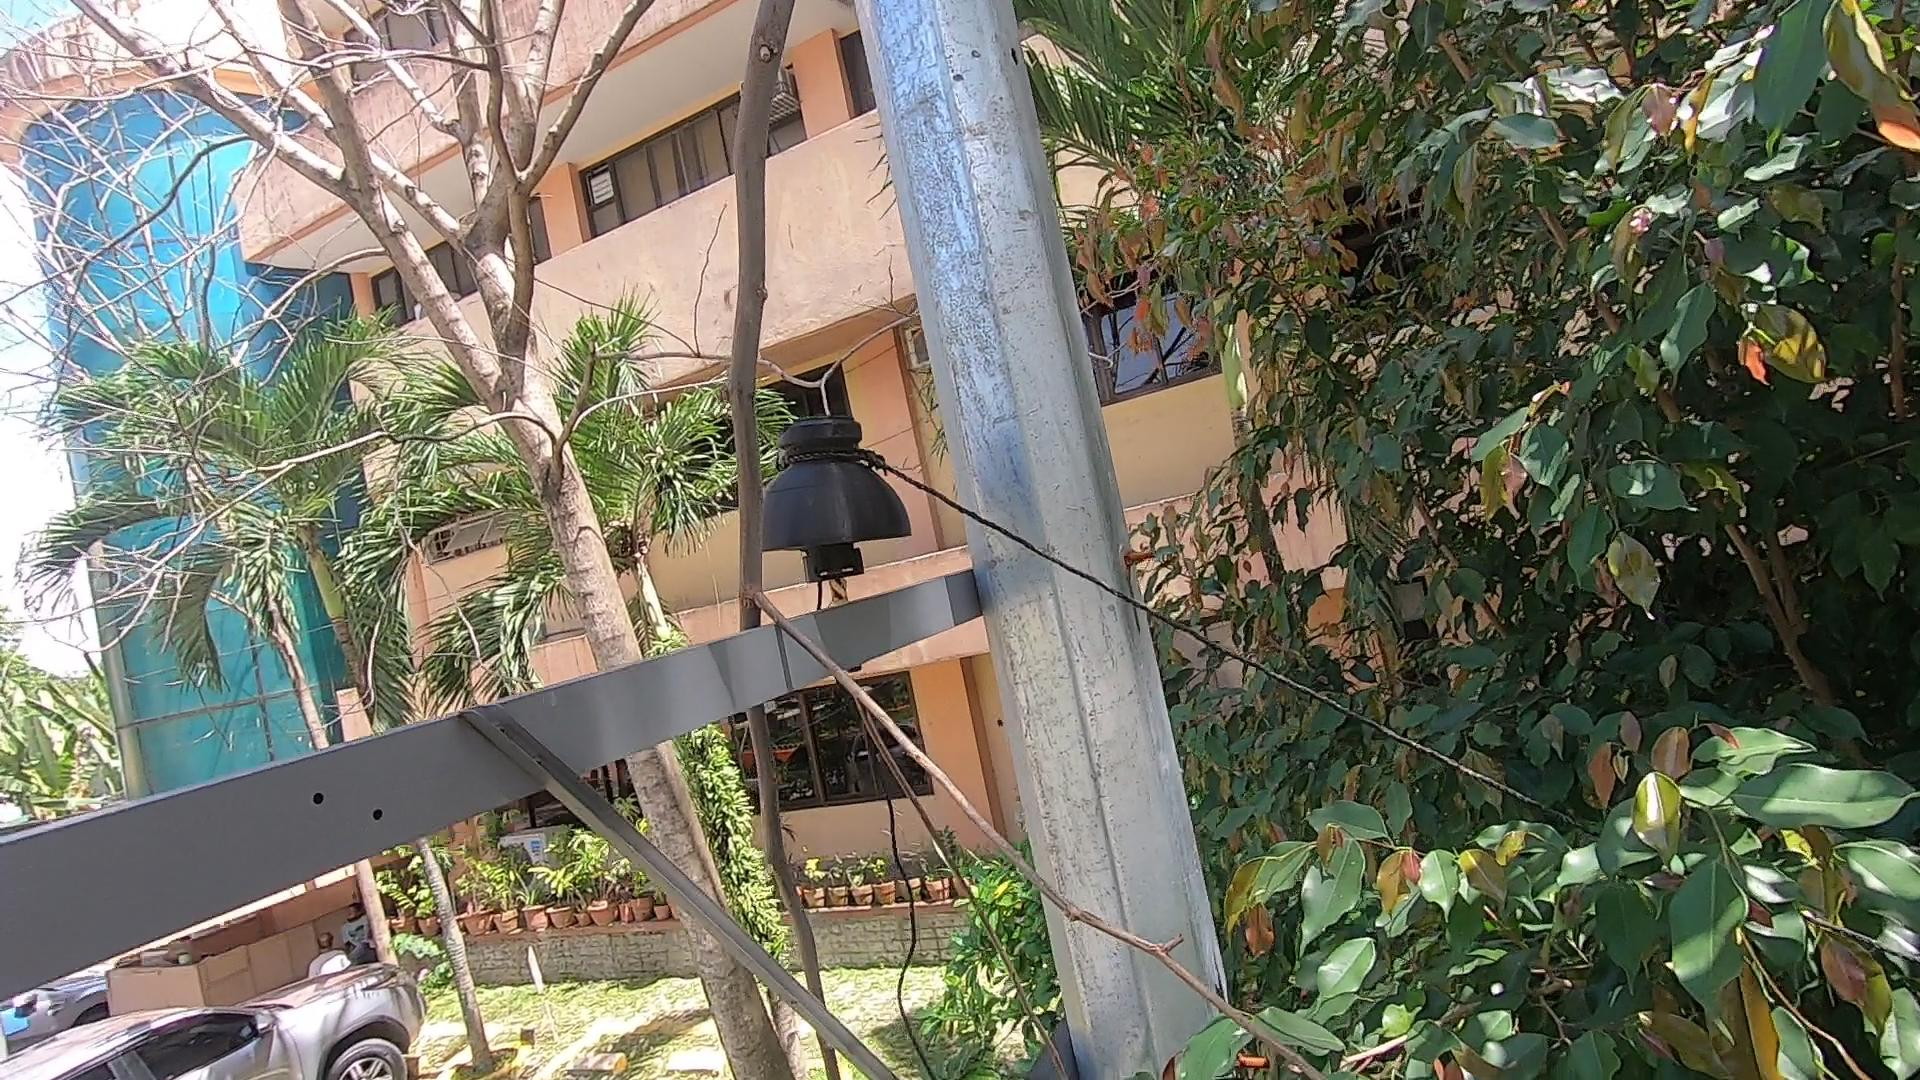tree branch: (640, 3, 1325, 1080)
